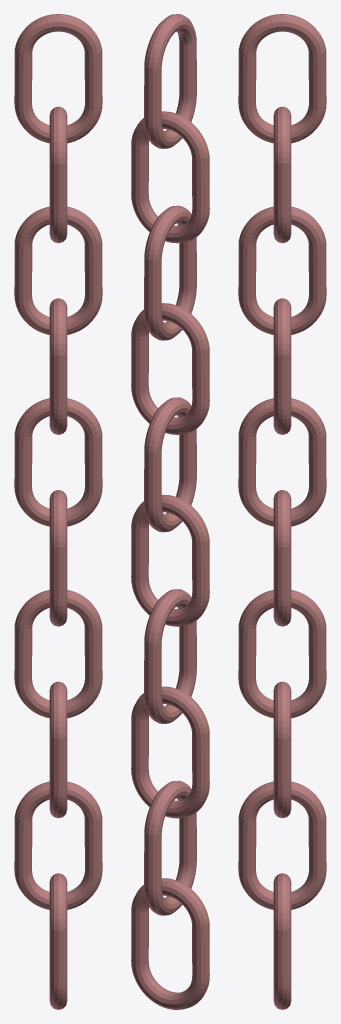
The model's file is chain.fbx.
The picture shows the model from 3 angles, left to right: view 1: azimuth 90°, elevation 25°; view 2: azimuth 150°, elevation 25°; view 3: azimuth 270°, elevation 25°; orthographic projection.
Parts seen in each view (by area): view 1: Torus.008, Torus.001, Torus.005, Torus.006, Torus.002, Torus.003, Torus.009, Torus, Torus.004, Torus.007; view 2: Torus, Torus.004, Torus.007, Torus.009, Torus.003, Torus.008, Torus.006, Torus.002, Torus.001, Torus.005; view 3: Torus.008, Torus.001, Torus.005, Torus.006, Torus.002, Torus.003, Torus.009, Torus, Torus.004, Torus.007.
Boxes of the visible parts, x1,y1,x2,y2 form: Torus.008: [14, 14, 102, 143]; Torus.001: [14, 781, 102, 909]; Torus.005: [14, 206, 102, 334]; Torus.006: [14, 398, 102, 526]; Torus.002: [14, 590, 102, 718]; Torus.003: [49, 681, 67, 818]; Torus.009: [49, 106, 67, 243]; Torus: [49, 873, 67, 1009]; Torus.004: [49, 298, 67, 434]; Torus.007: [49, 490, 67, 626]; Torus: [131, 878, 209, 1009]; Torus.004: [131, 303, 209, 434]; Torus.007: [131, 494, 209, 626]; Torus.009: [131, 111, 209, 243]; Torus.003: [131, 686, 209, 818]; Torus.008: [144, 14, 196, 148]; Torus.006: [144, 397, 196, 532]; Torus.002: [144, 589, 196, 723]; Torus.001: [144, 780, 196, 915]; Torus.005: [144, 205, 196, 340]; Torus.008: [238, 14, 326, 143]; Torus.001: [238, 781, 326, 909]; Torus.005: [238, 206, 326, 334]; Torus.006: [238, 398, 326, 526]; Torus.002: [238, 590, 326, 718]; Torus.003: [273, 681, 291, 818]; Torus.009: [273, 106, 291, 243]; Torus: [273, 873, 291, 1009]; Torus.004: [273, 298, 291, 434]; Torus.007: [273, 490, 291, 626].
Bounding box in the file's own units: 50 × 621 × 50.
